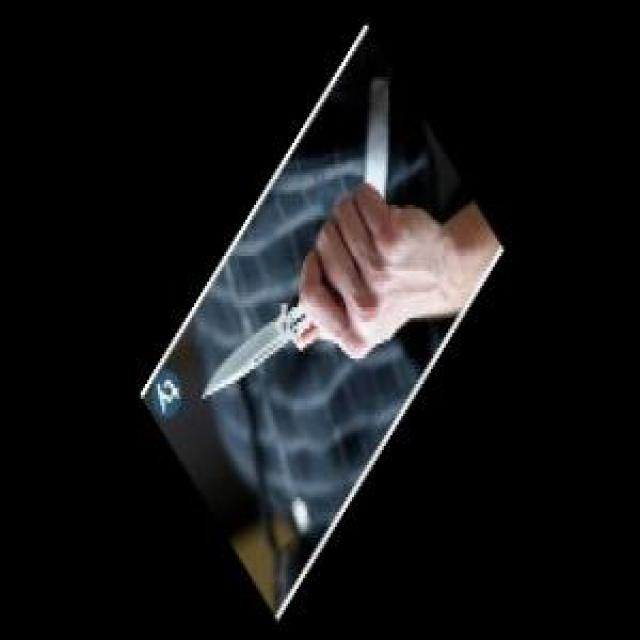knife: (200, 284, 328, 411)
